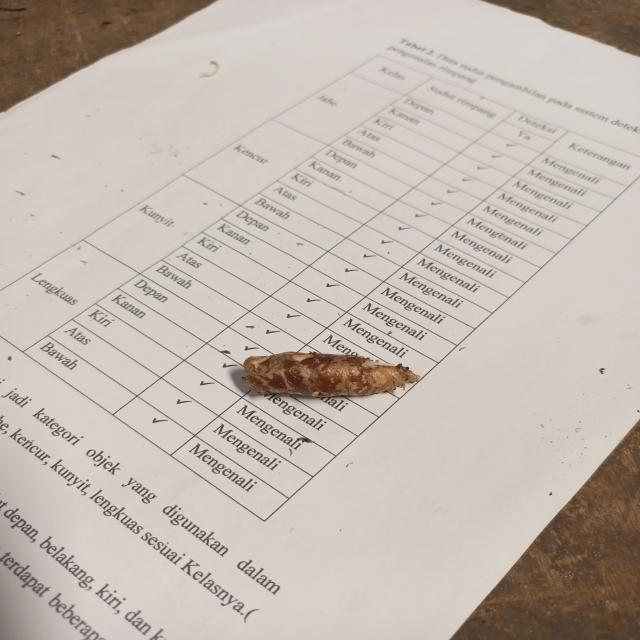ginger: (245, 346, 410, 399)
